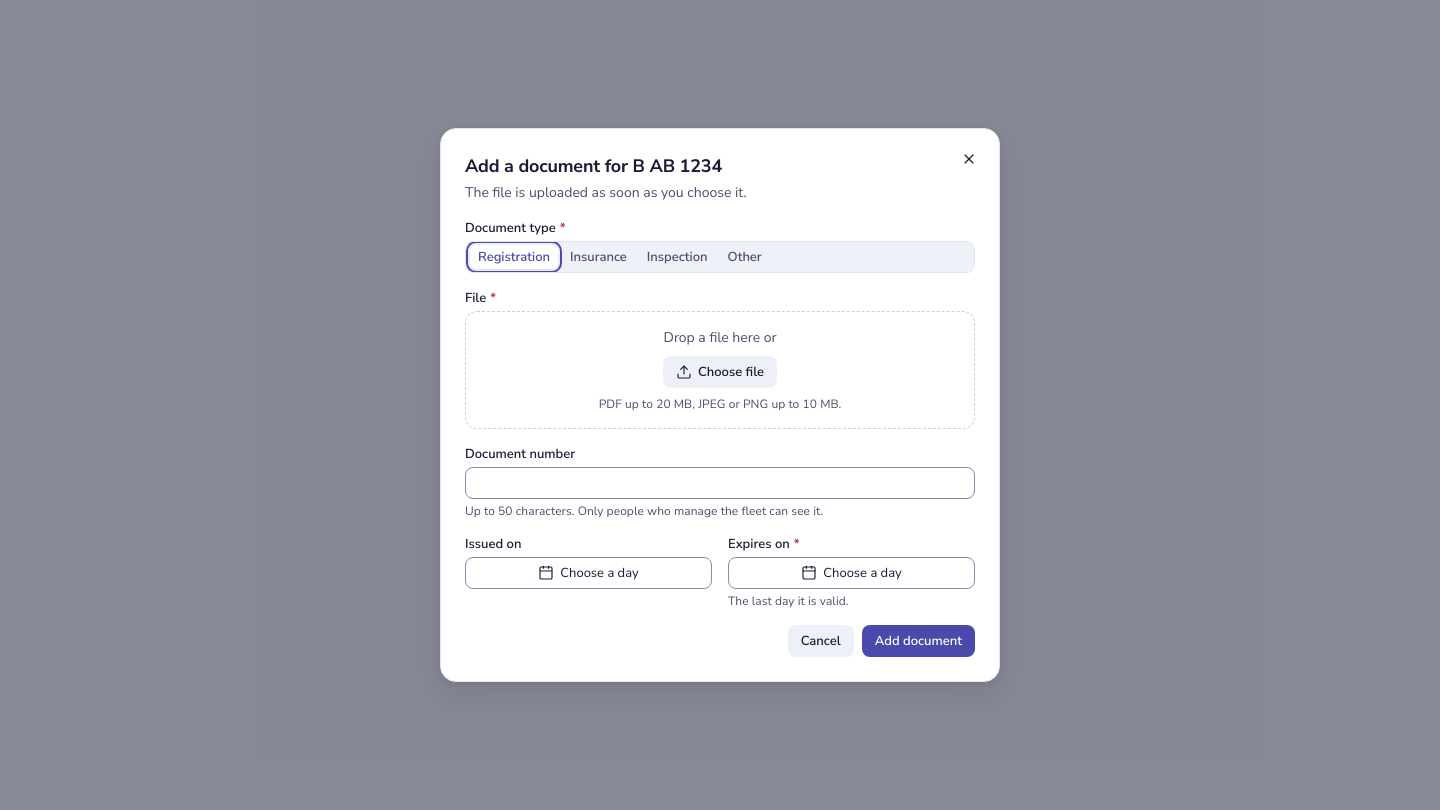
Test: AddDocumentDialog › starts on the first type for the owner and asks for the file and the expiry before anything is sent
The width and height of the screenshot is (1440, 810).
Expected: the heading "Add a document for B AB 1234" is shown, [465,154,722,178]
Expected: the radio button labelled "Registration" is checked, [470,245,558,269]
Step 1. Click the button "Add document" → coordinates (918, 641), box [862,625,975,657]
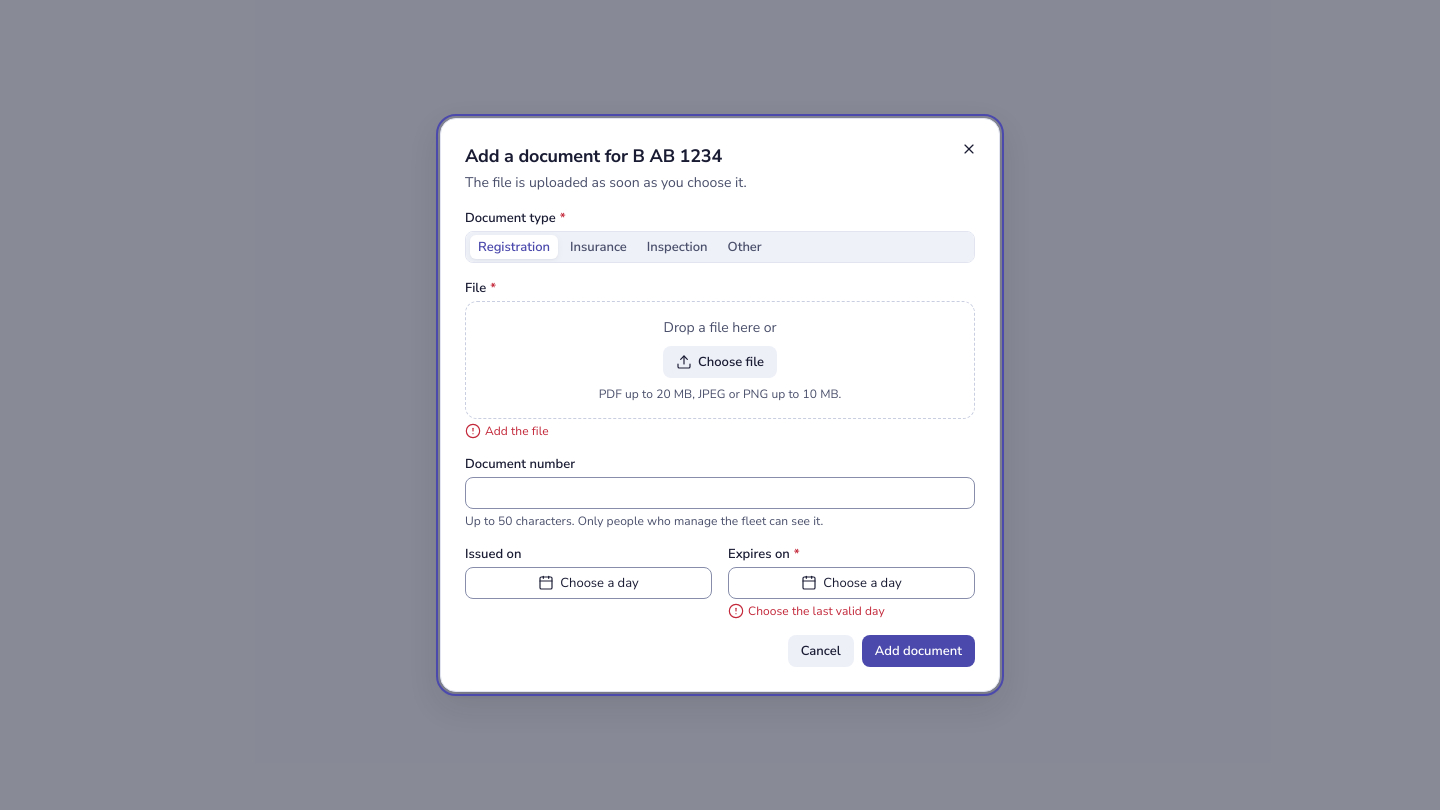
Expected: the text "Add the file" is shown, [465,423,549,439]
Expected: the text "Choose the last valid day" is shown, [728,603,885,619]
